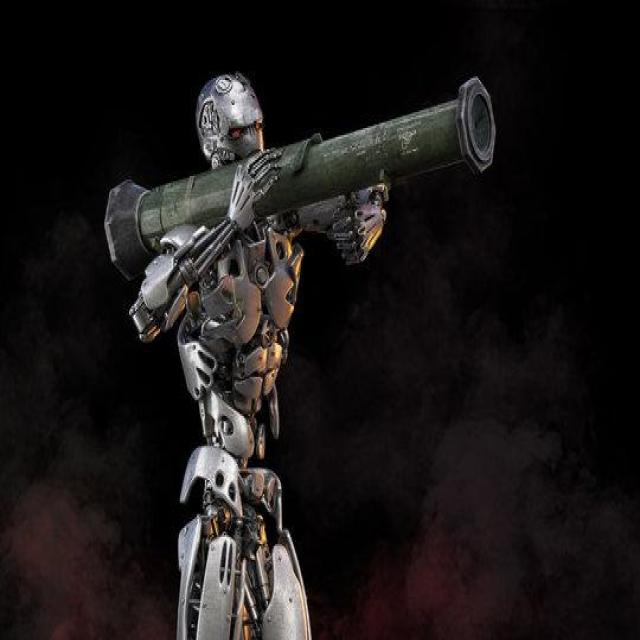weapon: (102, 74, 505, 323)
